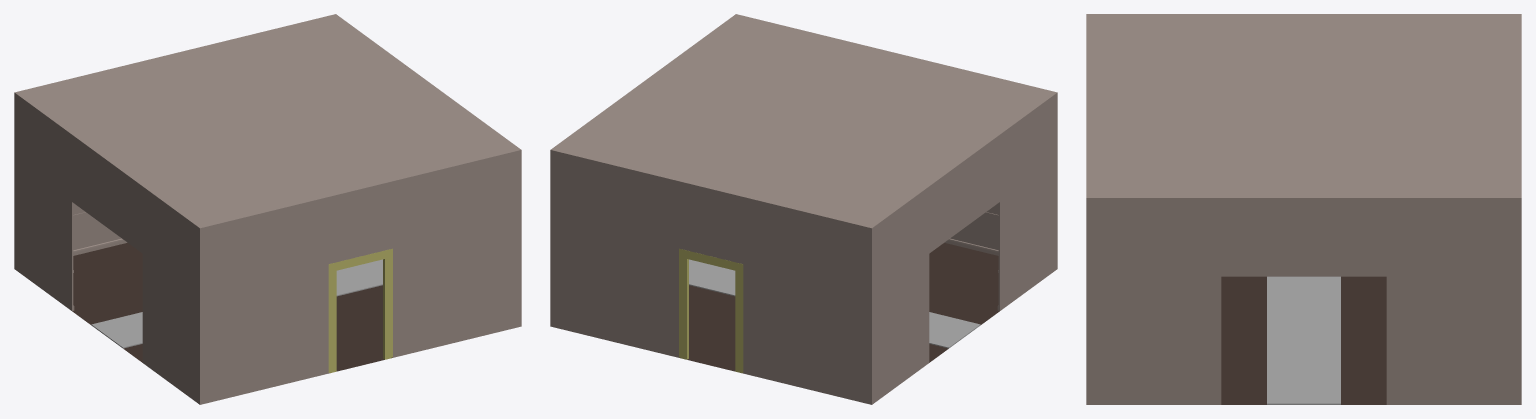
Rendered from Room20_Foyer.fbx.
The picture shows the model from 3 angles, left to right: view 1: azimuth 30°, elevation 25°; view 2: azimuth 150°, elevation 25°; view 3: azimuth 270°, elevation 25°; orthographic projection. The views are drawn at different scales.
Parts seen in each view (by area): view 1: Roof, WallSlicedPosZ, WallOpenPosX, Floor, DoorFramePosZ, pCube26, WallSlicedNegZ, WallOpenNegX; view 2: Roof, WallSlicedNegZ, WallOpenPosX, Floor, DoorFrameNegZ, pCube26, WallSlicedPosZ, WallOpenNegX; view 3: Roof, WallOpenNegX, Floor, pCube26, WallSlicedPosZ, WallSlicedNegZ, WallOpenPosX.
Boxes of the visible parts, bbox=[...] form: Roof: bbox=[17, 15, 518, 227]; WallSlicedPosZ: bbox=[199, 149, 521, 404]; WallOpenPosX: bbox=[14, 92, 202, 404]; Floor: bbox=[72, 242, 392, 373]; DoorFramePosZ: bbox=[328, 248, 392, 372]; pCube26: bbox=[91, 259, 382, 348]; WallSlicedNegZ: bbox=[14, 14, 334, 269]; WallOpenNegX: bbox=[335, 14, 521, 326]; Roof: bbox=[553, 15, 1054, 227]; WallSlicedNegZ: bbox=[550, 149, 872, 404]; WallOpenPosX: bbox=[869, 92, 1057, 404]; Floor: bbox=[679, 242, 999, 373]; DoorFrameNegZ: bbox=[679, 248, 743, 372]; pCube26: bbox=[689, 259, 980, 348]; WallSlicedPosZ: bbox=[737, 14, 1057, 269]; WallOpenNegX: bbox=[550, 14, 736, 326]; Roof: bbox=[1088, 14, 1519, 197]; WallOpenNegX: bbox=[1086, 197, 1521, 404]; Floor: bbox=[1221, 276, 1386, 404]; pCube26: bbox=[1267, 276, 1340, 404]; WallSlicedPosZ: bbox=[1086, 14, 1088, 404]; WallSlicedNegZ: bbox=[1518, 14, 1521, 404]; WallOpenPosX: bbox=[1086, 14, 1521, 14].
Size of the model in its own units: 800 by 420 by 800.
